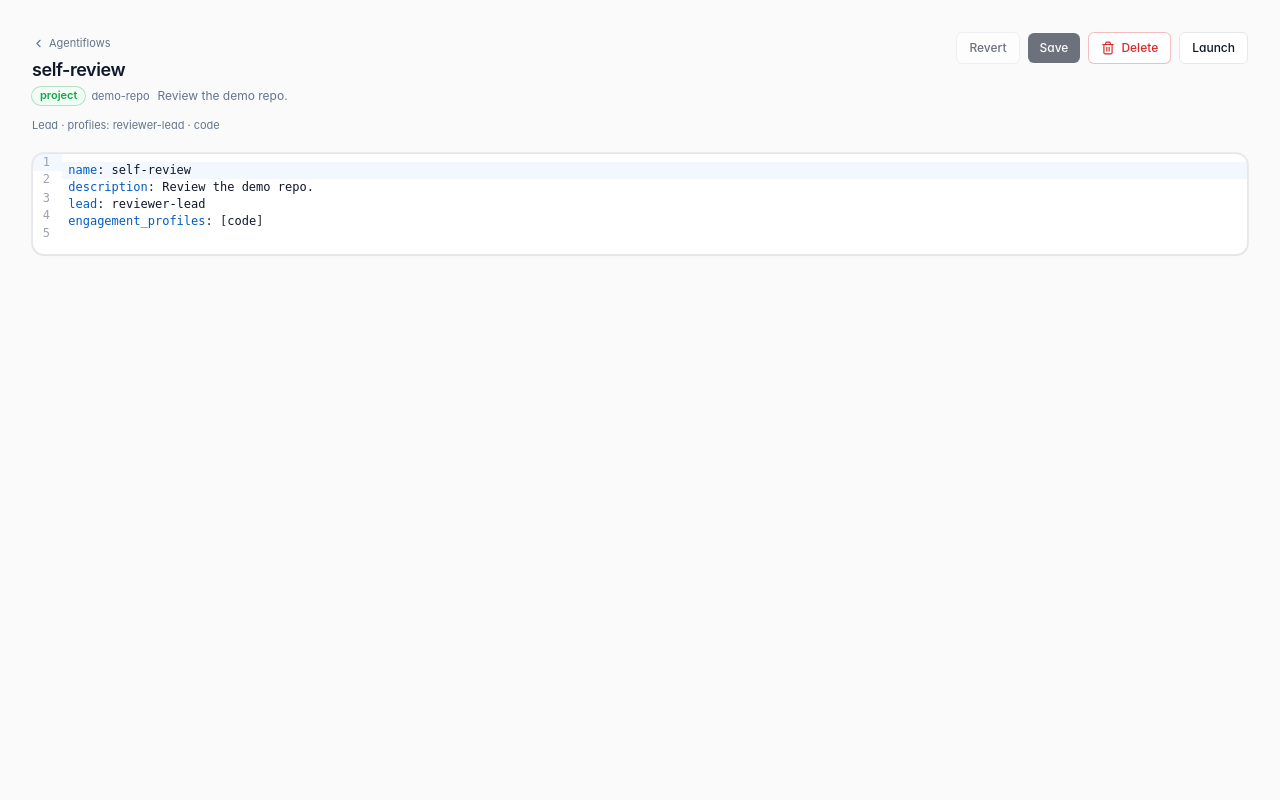
Test case: AgentiflowDefDetail › Launch opens the launcher on this definition
Step 1. Click the button "Launch" → click(1214, 48), box [1179,32,1248,64]
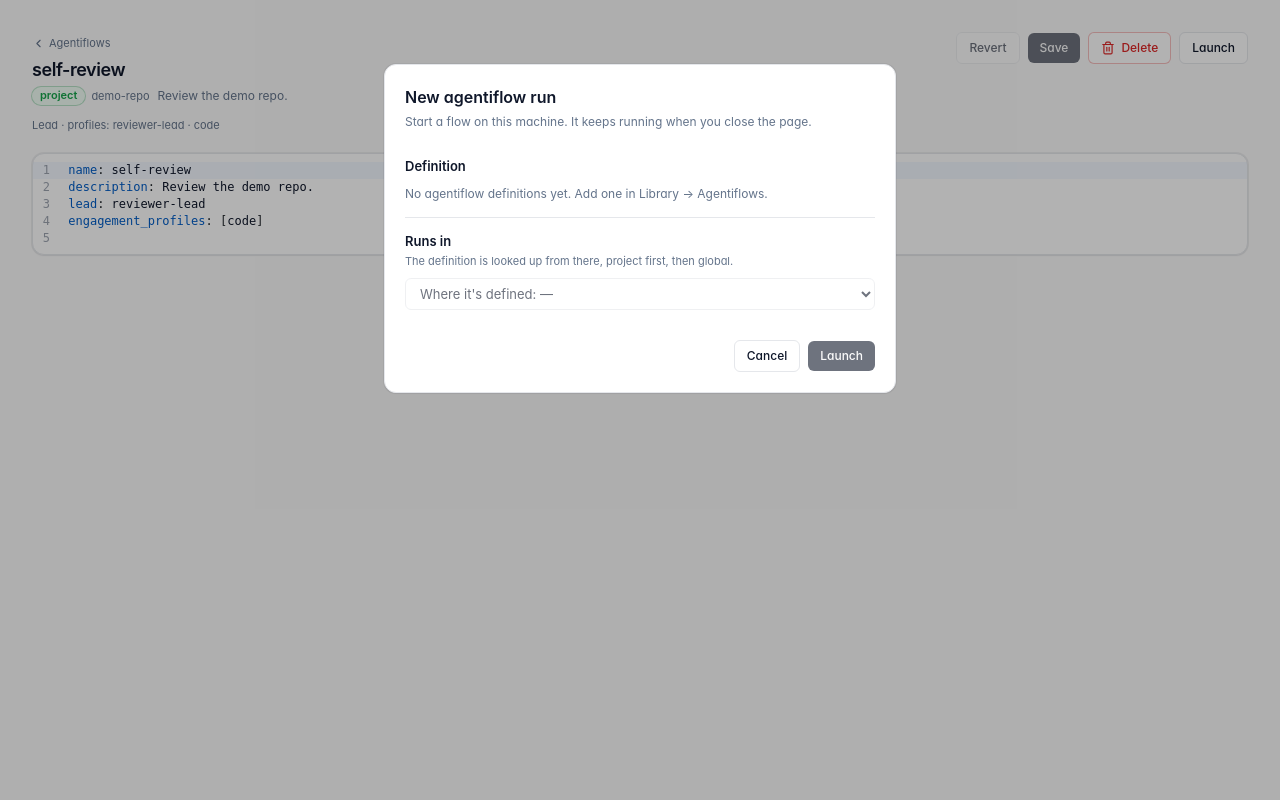
Check: the dialog "New agentiflow run" is shown, box [384,64,896,392]
